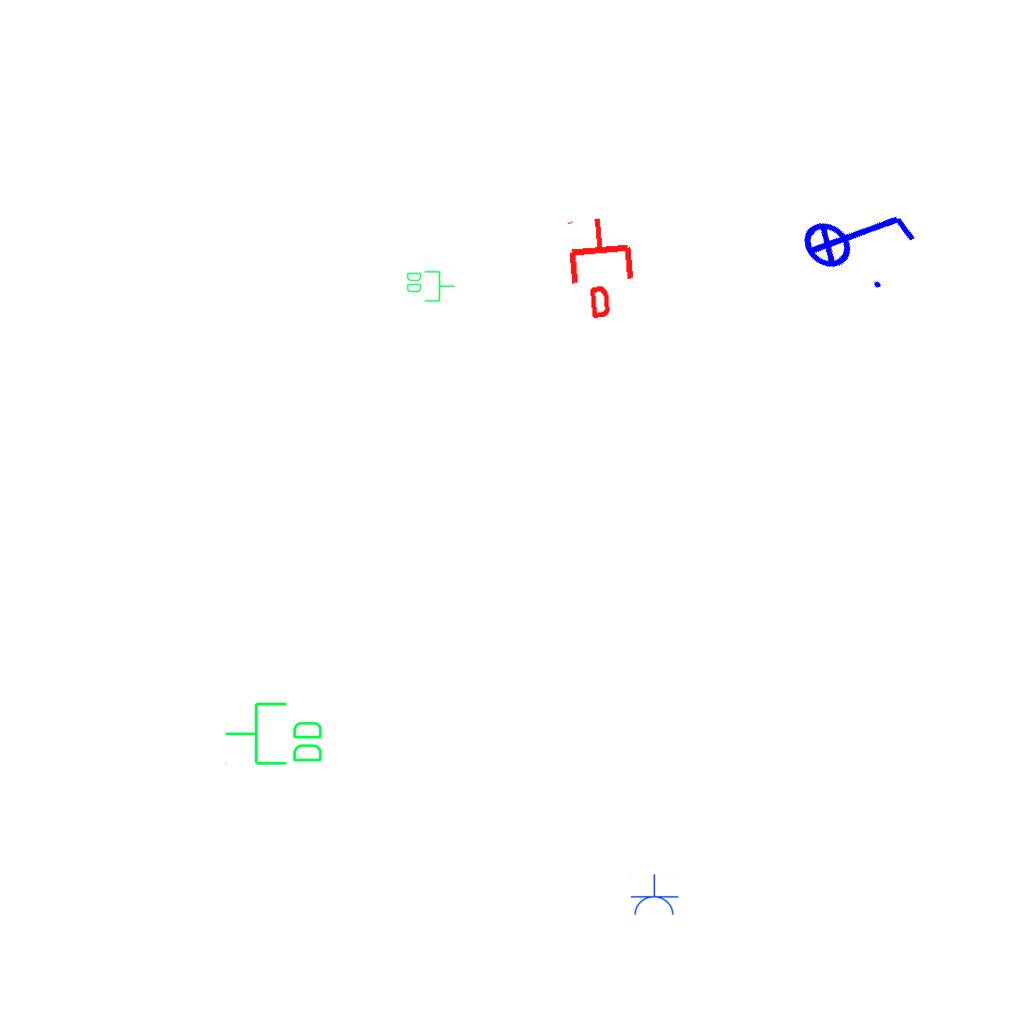Ausschalter_beleuchtet: (783, 162, 931, 308)
Datenanschluss_einfach: (562, 214, 641, 320)
Datenanschluss_zweifach: (223, 700, 326, 769), (405, 269, 456, 303)
Schukosteckdose_einfach: (629, 874, 679, 917)
